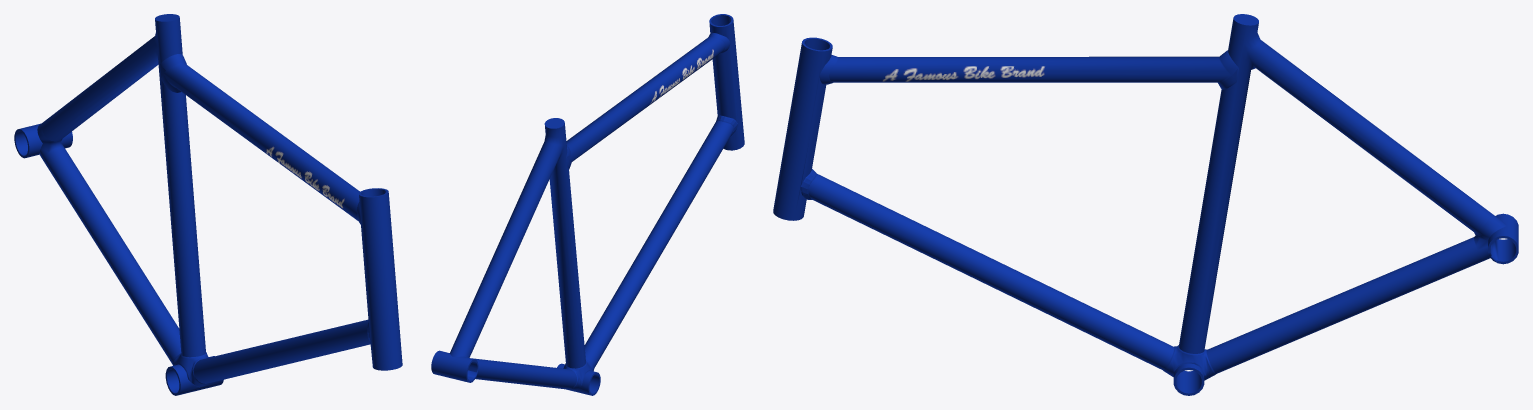
Rendered from VanadiumObject.DAE.
The picture shows the model from 3 angles, left to right: view 1: azimuth 30°, elevation 25°; view 2: azimuth 150°, elevation 25°; view 3: azimuth 270°, elevation 25°; orthographic projection. The views are drawn at different scales.
Visible parts, largest first — view 1: Cylinder002; view 2: Cylinder002; view 3: Cylinder002.
Part boxes in pixels (box(x1,y1,x2,y2)): Cylinder002: box(14, 14, 402, 395); Cylinder002: box(431, 14, 744, 395); Cylinder002: box(773, 14, 1518, 395).
Bounding box in the file's own units: 0.7874 × 11.23 × 6.1.
1 material, 1 textured.
